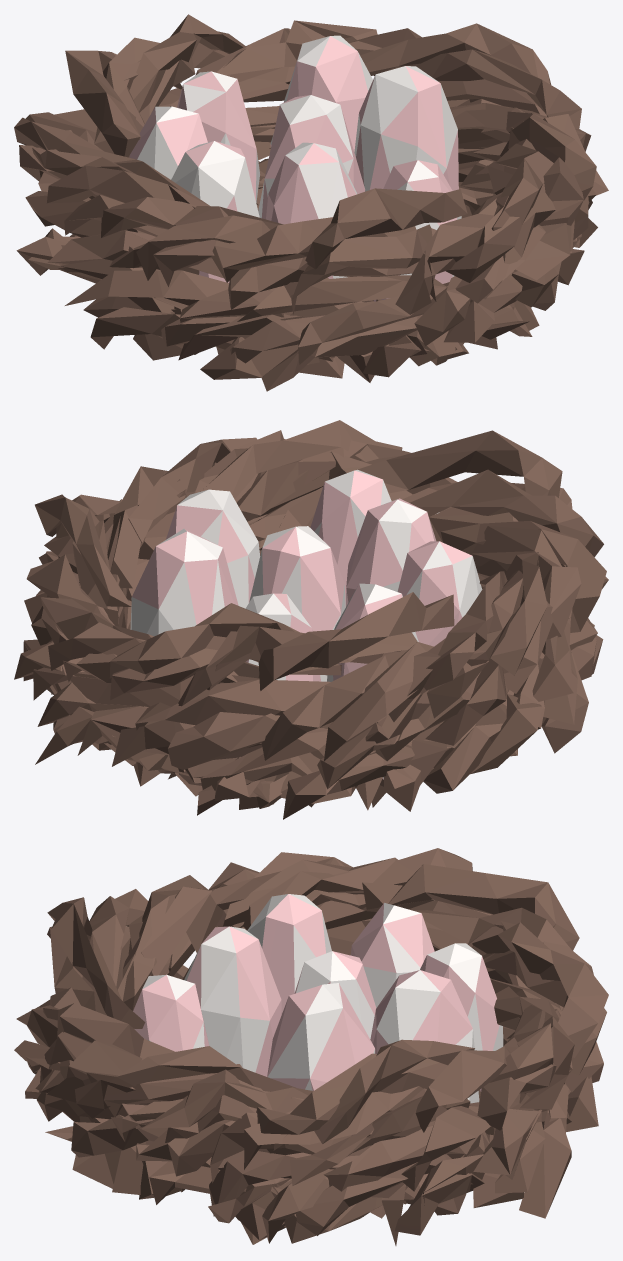
File: Nest_20.fbx
3 renders of one model, top to bottom at view 1: azimuth 30°, elevation 25°; view 2: azimuth 150°, elevation 25°; view 3: azimuth 270°, elevation 25°, orthographic. The views are drawn at different scales.
Parts seen in each view (by area): view 1: Nest_20_LOD0; view 2: Nest_20_LOD0; view 3: Nest_20_LOD0.
Boxes of the visible parts, box(x1,y1,x2,y2) form: Nest_20_LOD0: box(14, 14, 608, 391); Nest_20_LOD0: box(14, 420, 608, 819); Nest_20_LOD0: box(14, 848, 608, 1245).
Size of what is drawn, in the model's own units: 63.65 by 27.93 by 62.36.
